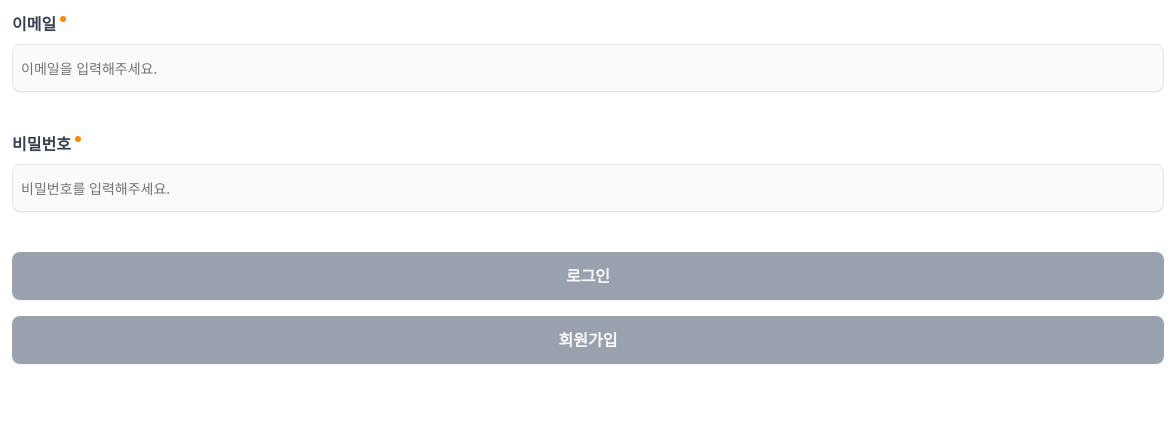
Test: 로그인 및 회원가입 공통 인증 form 컴포넌트 › 로그인 폼 제출 시 로그인 실패
Click the button "로그인".
click(588, 276)  # box [12,252,1164,300]
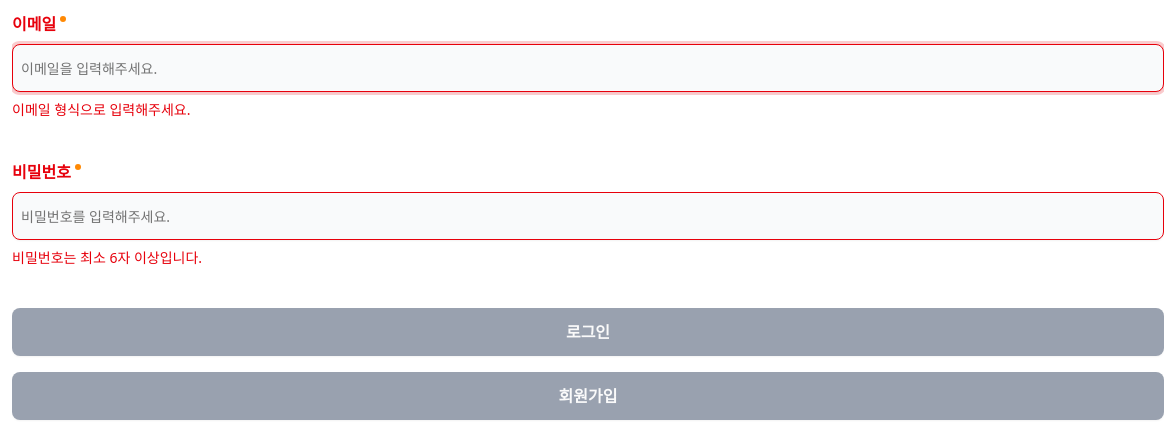
Now the text "이메일 형식으로 입력해주세요." is shown, box [12,100,190,119]
